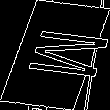M_E: (4, 27, 106, 83)
